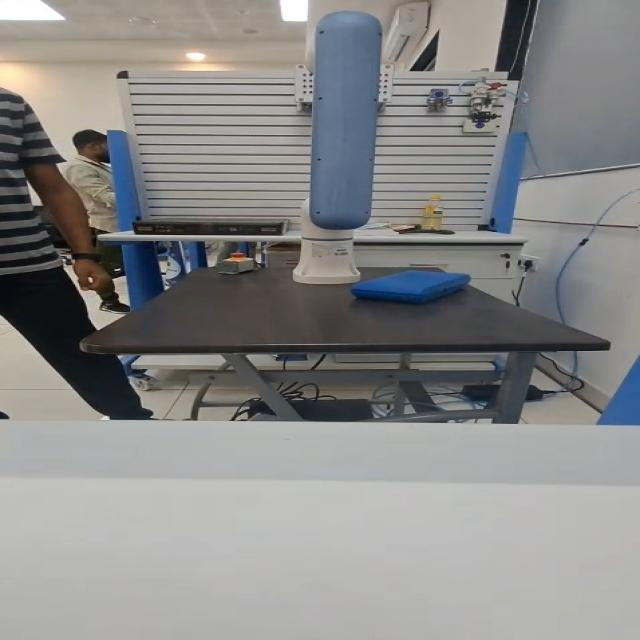top-surface: (371, 271, 460, 287)
